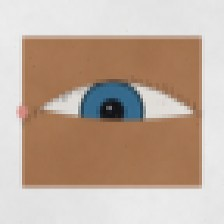pinguecula_lesion: (32, 102, 64, 128)
